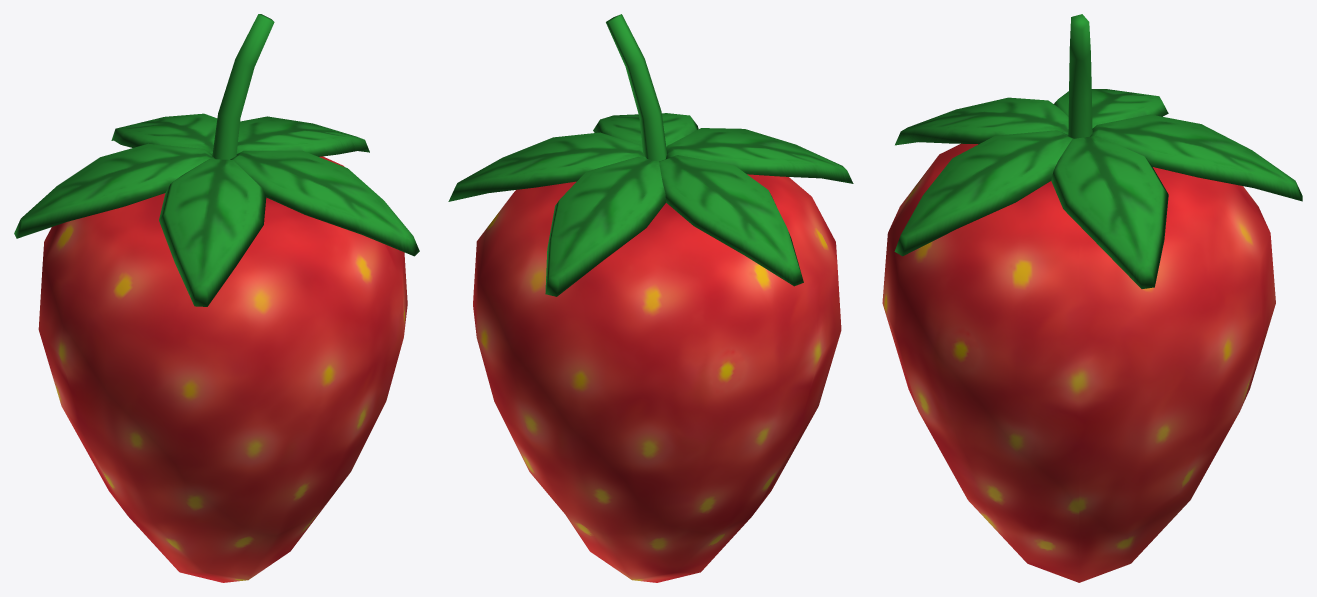
The model's file is strawberry_001.fbx.
The picture shows the model from 3 angles, left to right: view 1: azimuth 30°, elevation 25°; view 2: azimuth 150°, elevation 25°; view 3: azimuth 270°, elevation 25°; orthographic projection. The views are drawn at different scales.
Parts seen in each view (by area): view 1: strawberry_001; view 2: strawberry_001; view 3: strawberry_001.
Part boxes in pixels (x1,y1,x2,y2): strawberry_001: (14, 14, 419, 582); strawberry_001: (448, 14, 853, 582); strawberry_001: (882, 14, 1302, 582).
Size of the model in its own units: 0.6636 by 1 by 0.6498.
1 material, 1 textured.
